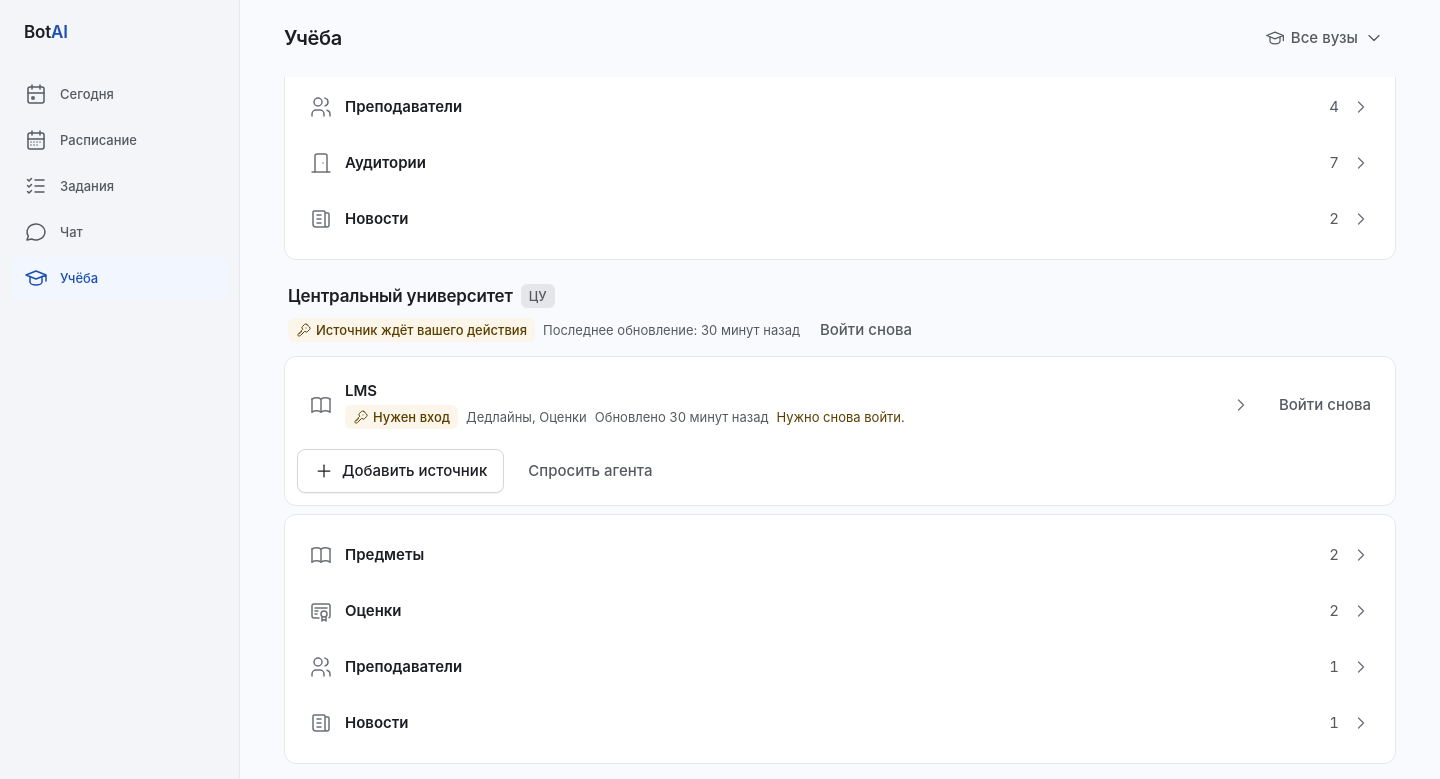
Test: карточка источника › источник ждёт входа: карточка ведёт в чат, а не в отдельную форму
(page scrolled)
Click the button with aria-label "LMS:" at (361, 390), box x1=297 y1=369 x2=1263 y2=441
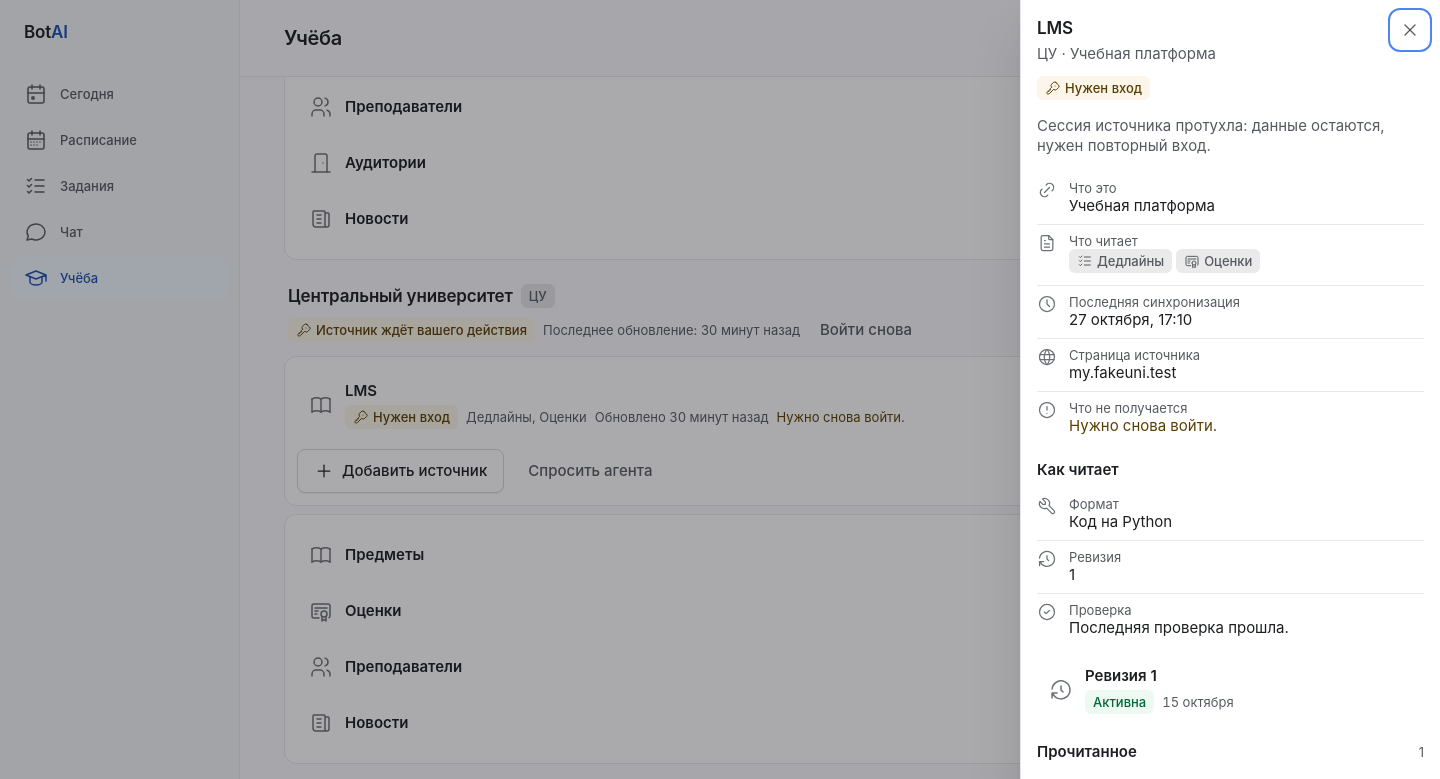
Result: the text "Нужен вход" is shown at x1=1037 y1=76 x2=1150 y2=100
